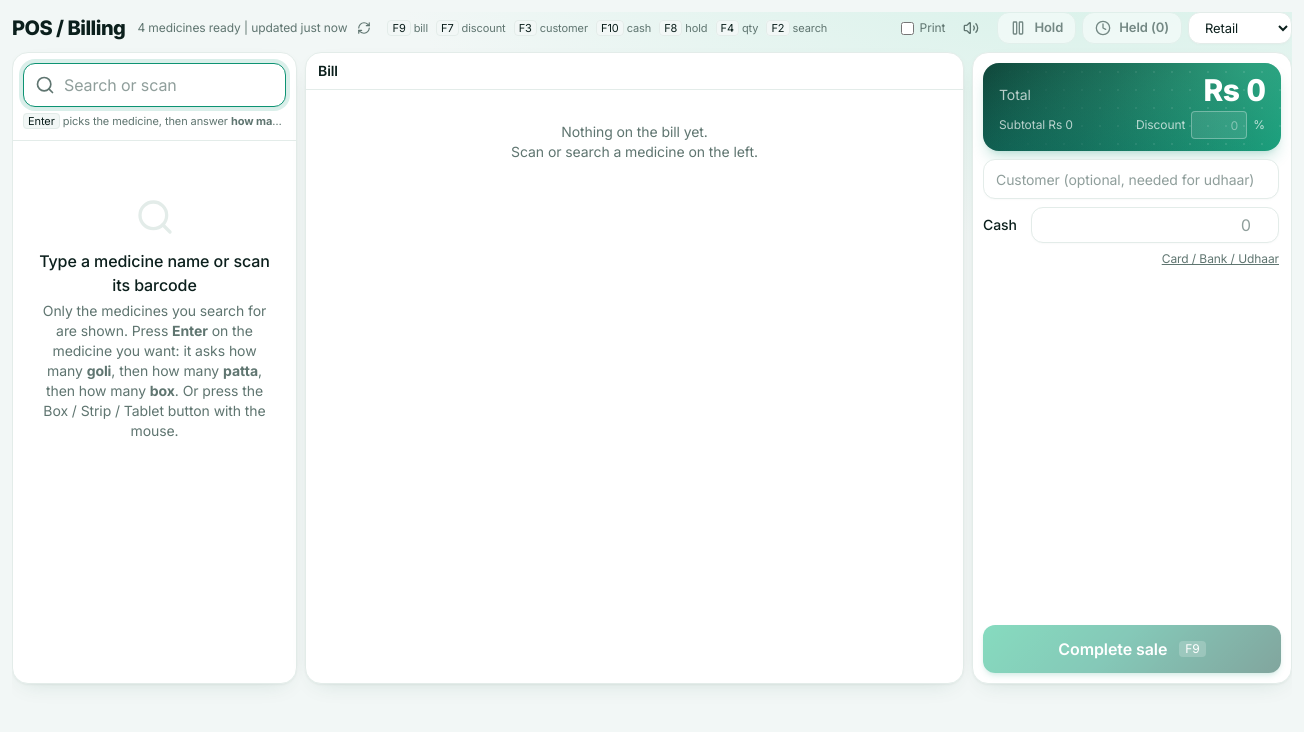
Test: POS counter › a scanned barcode adds the medicine on Enter
Check: the text "4 medicines ready | updated just now" is shown, box [137, 20, 348, 36]
Type "8961000000001" into the field named "Search medicine" at (154, 85), box [23, 63, 286, 107]
Then press Enter
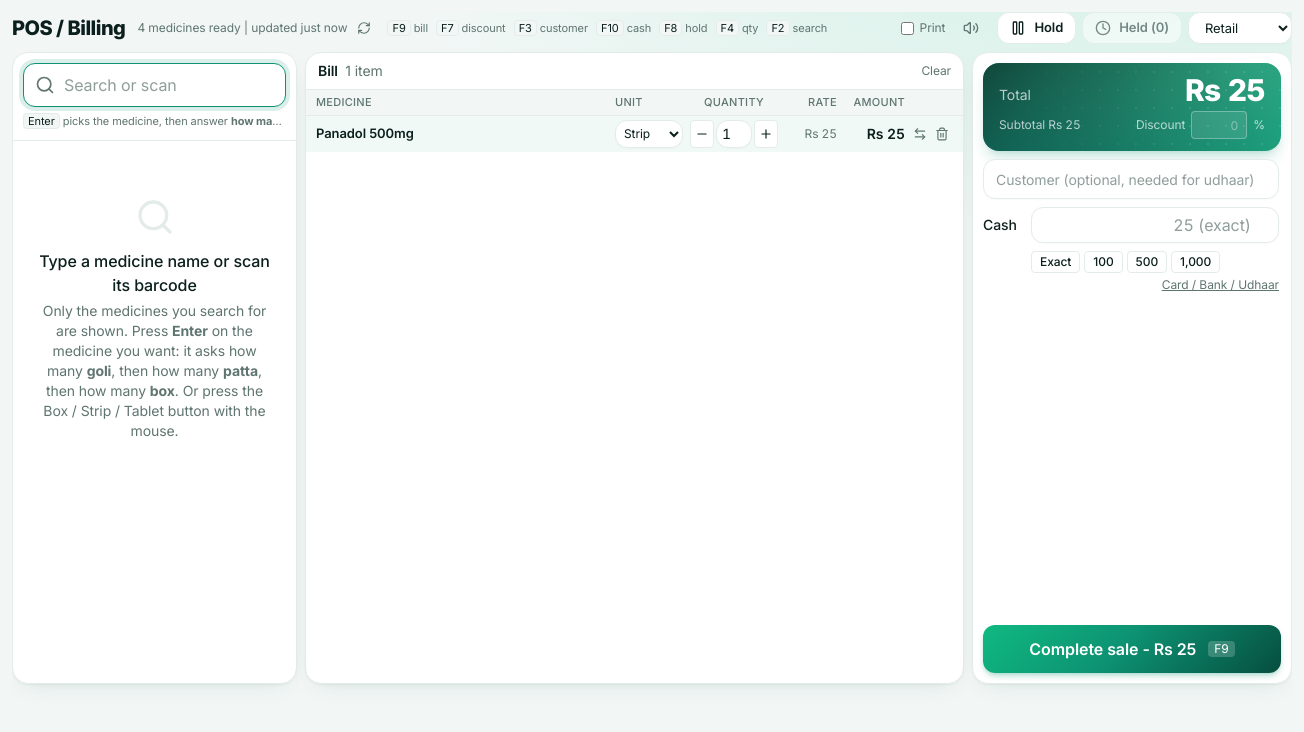
Check: the list item named "Quantity" shows "Panadol 500mg", box [316, 125, 414, 141]
Check: the 2nd text titled "per strip" reads "Rs 25", box [805, 126, 837, 140]
Check: the dropdown named "Unit" shows "Strip", box [615, 120, 683, 148]
